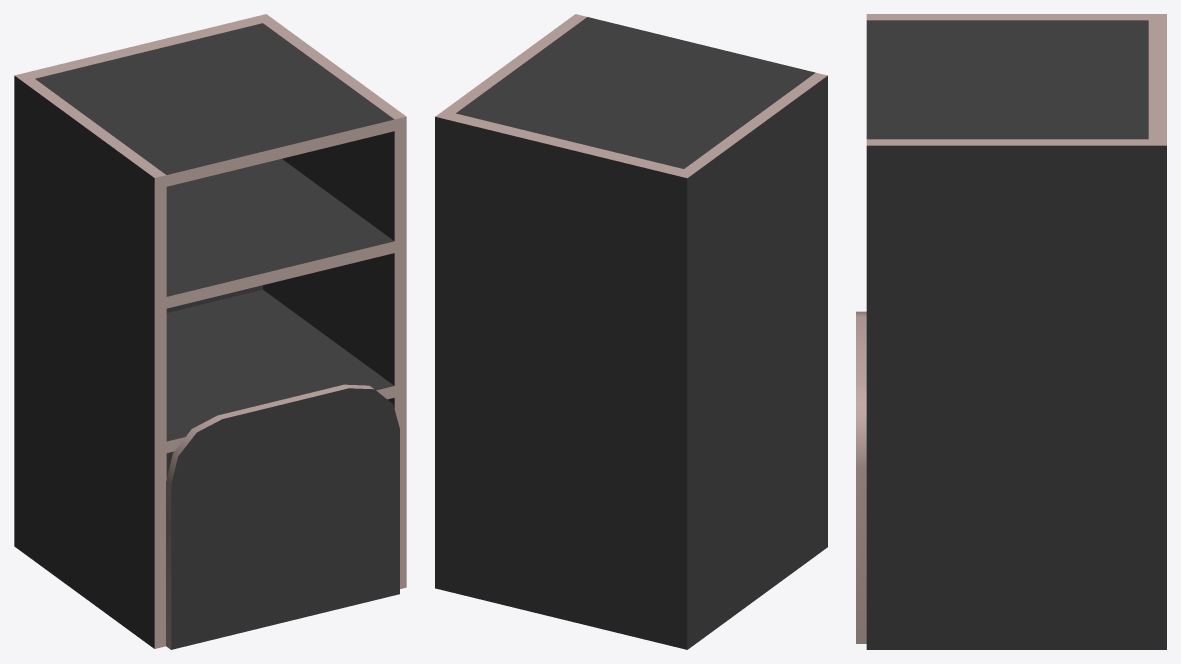
Rendered from shelf_047.glb.
3 renders of one model, left to right at view 1: azimuth 30°, elevation 25°; view 2: azimuth 150°, elevation 25°; view 3: azimuth 270°, elevation 25°, orthographic. The views are drawn at different scales.
Parts seen in each view (by area): view 1: shelf_047; view 2: shelf_047; view 3: shelf_047.
Part boxes in pixels (bbox=[...]): shelf_047: bbox=[14, 14, 406, 649]; shelf_047: bbox=[435, 14, 827, 649]; shelf_047: bbox=[856, 14, 1166, 649].
Size of the model in its own units: 0.5479 by 0.9788 by 0.5469.
Materials: 1 (1 with a texture image).
